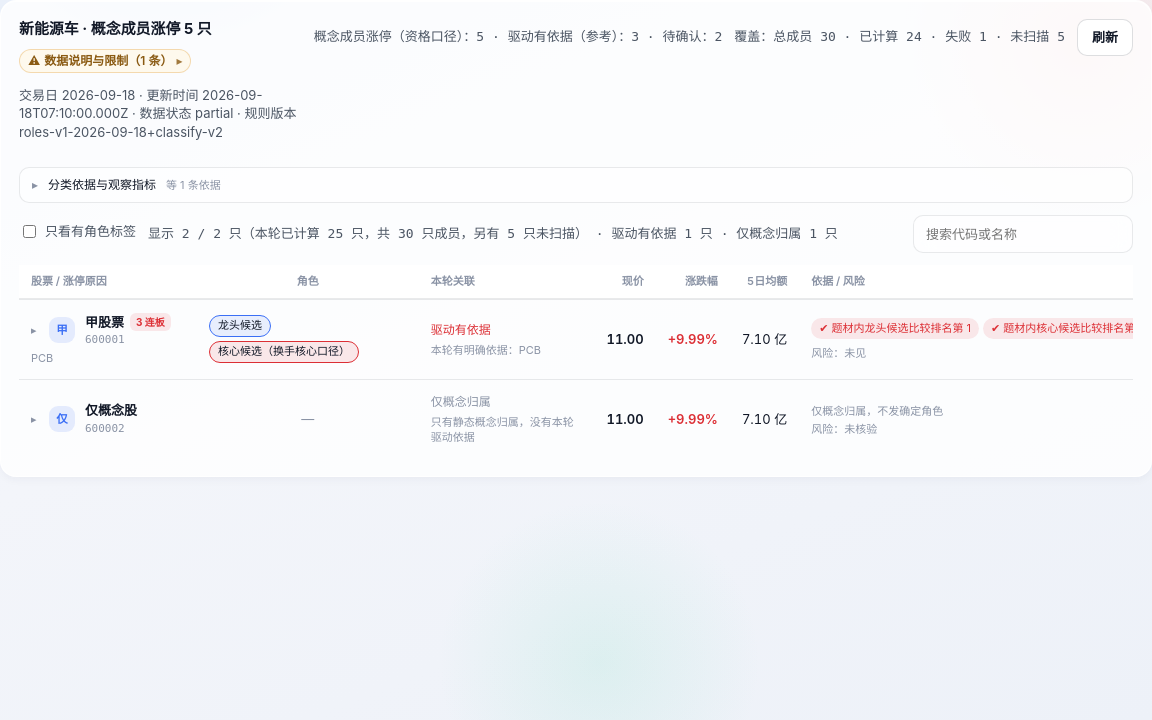
it: ThemeDetail › 「只看有角色标签」隐藏无标签成员，搜索按代码 / 名称过滤
Expected: the text "仅概念股" is shown, [85,401,137,420]
Click the checkbox labelled "只看有角色标签" at (30, 231), box [23,225,36,238]
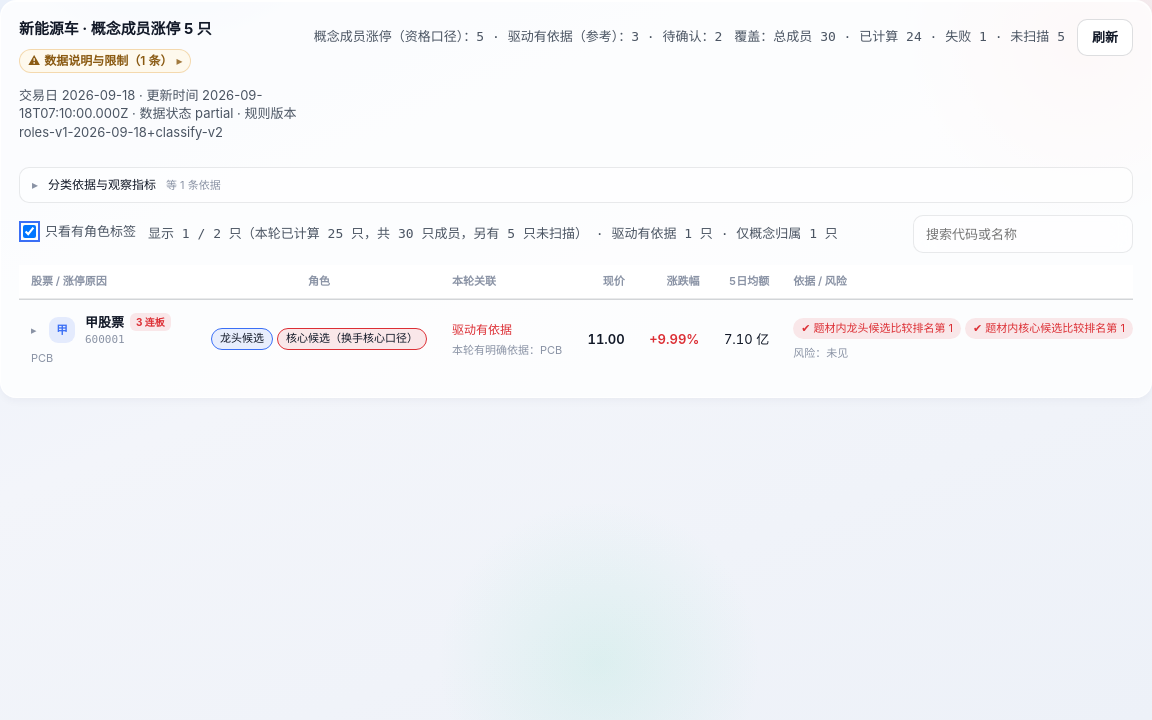
Expected: the text "仅概念股" is gone
Type "不存在" into the search field named "搜索股票" at (1023, 234), box [913,215,1133,253]
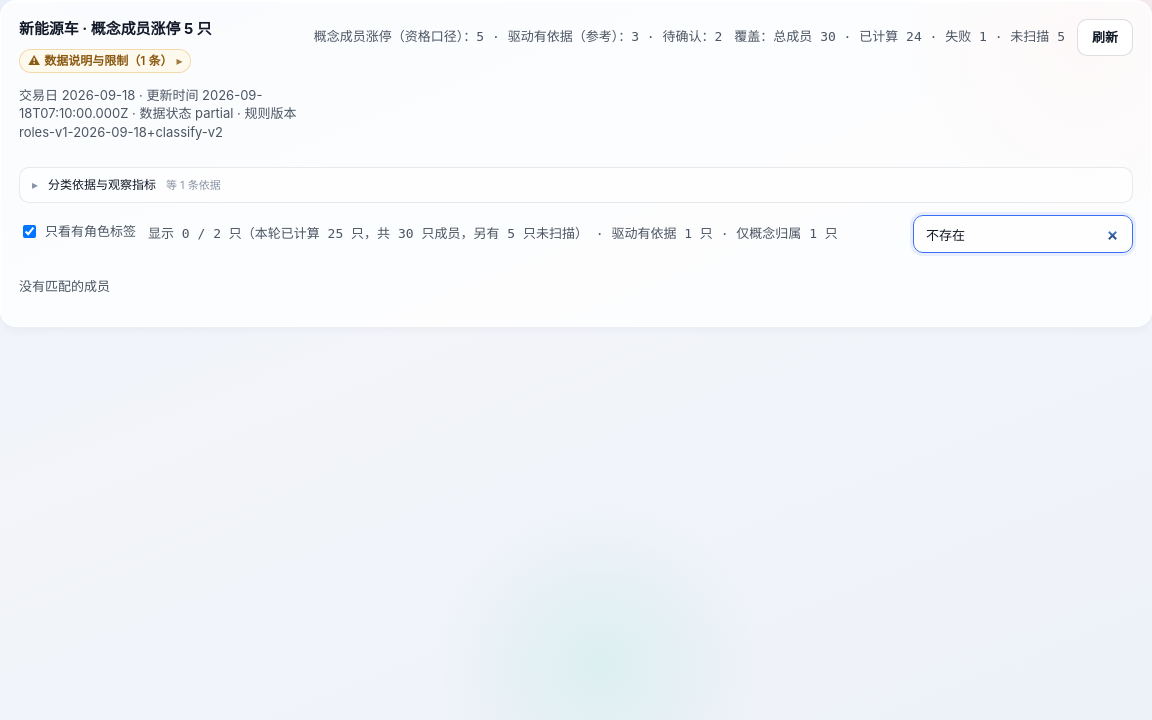
Expected: the element with class "empty-state" reads "没有匹配的成员", [19,278,110,294]
